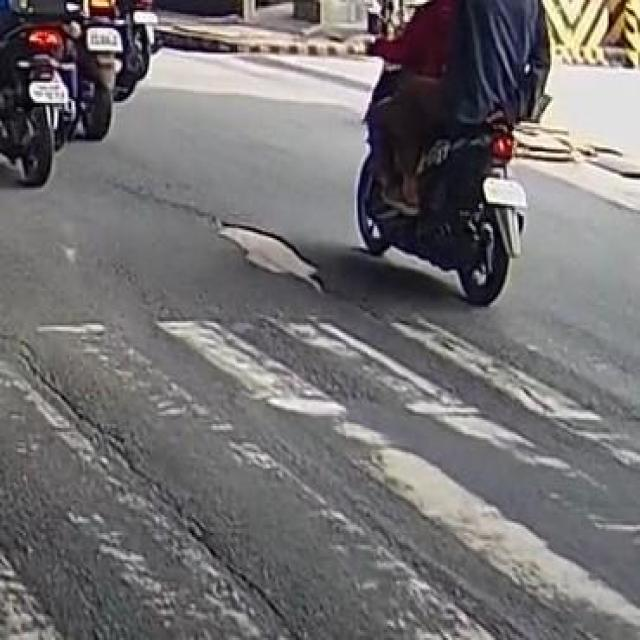Pothole: (215, 219, 329, 295)
